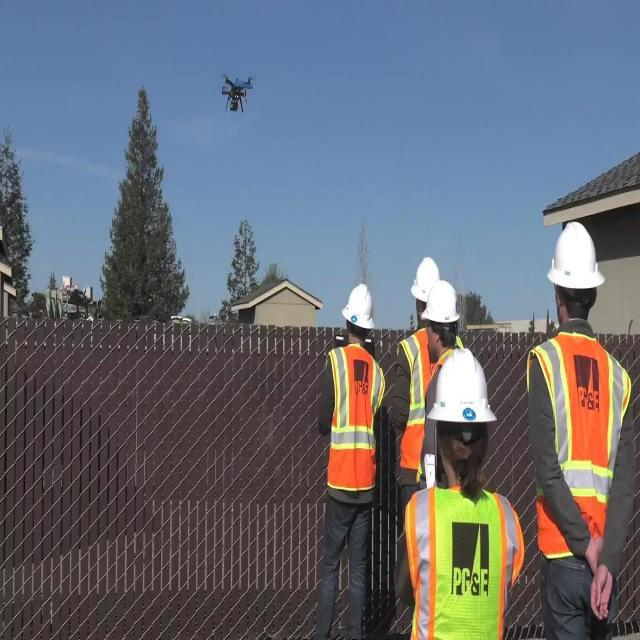drone: (220, 73, 254, 115)
